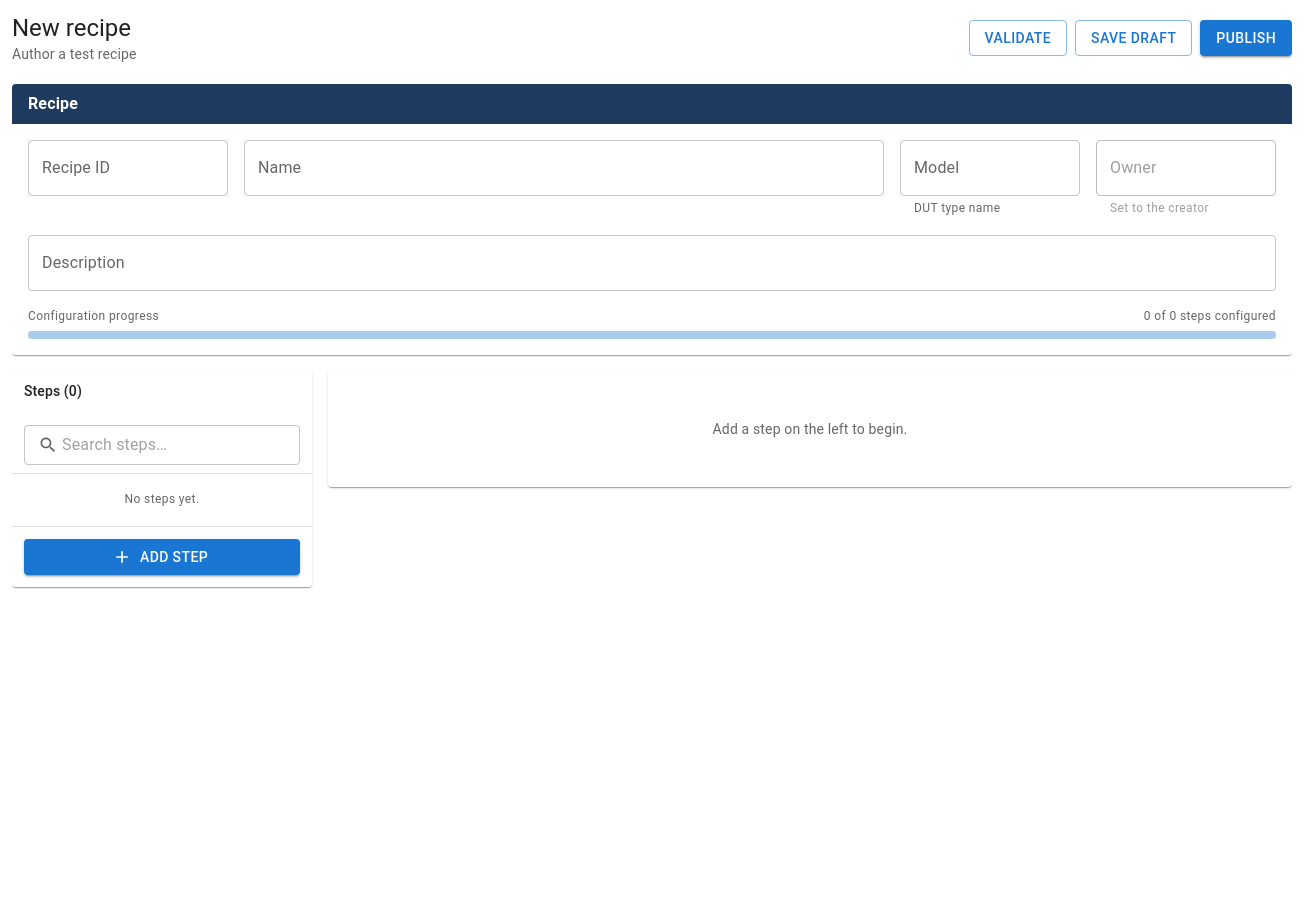
Scenario: RecipeEditor › validates a draft and shows the result
What coordinates should you click on to do the following:
click the button "Validate"
I would click on:
 (1018, 38)
Its box is [968, 20, 1067, 56].
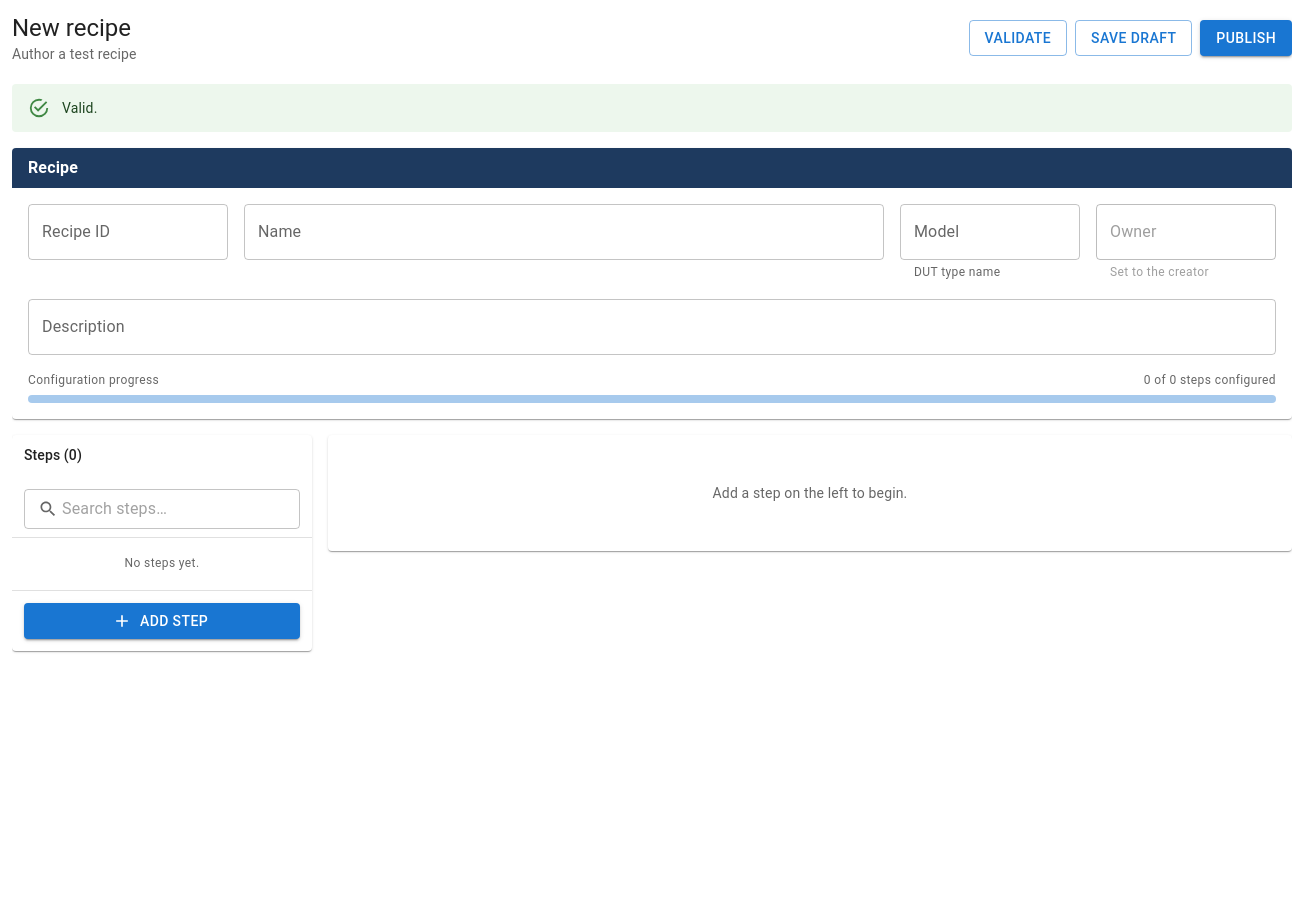
Now the text "Valid." is shown, box [62, 100, 98, 116]
